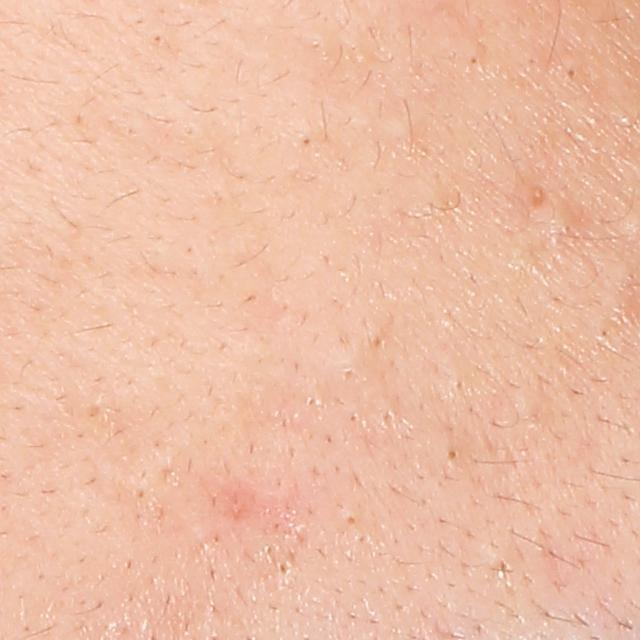comedo: (334, 504, 369, 537), (457, 45, 486, 77), (272, 554, 295, 582), (293, 128, 320, 150), (145, 28, 166, 54), (368, 332, 391, 353)
